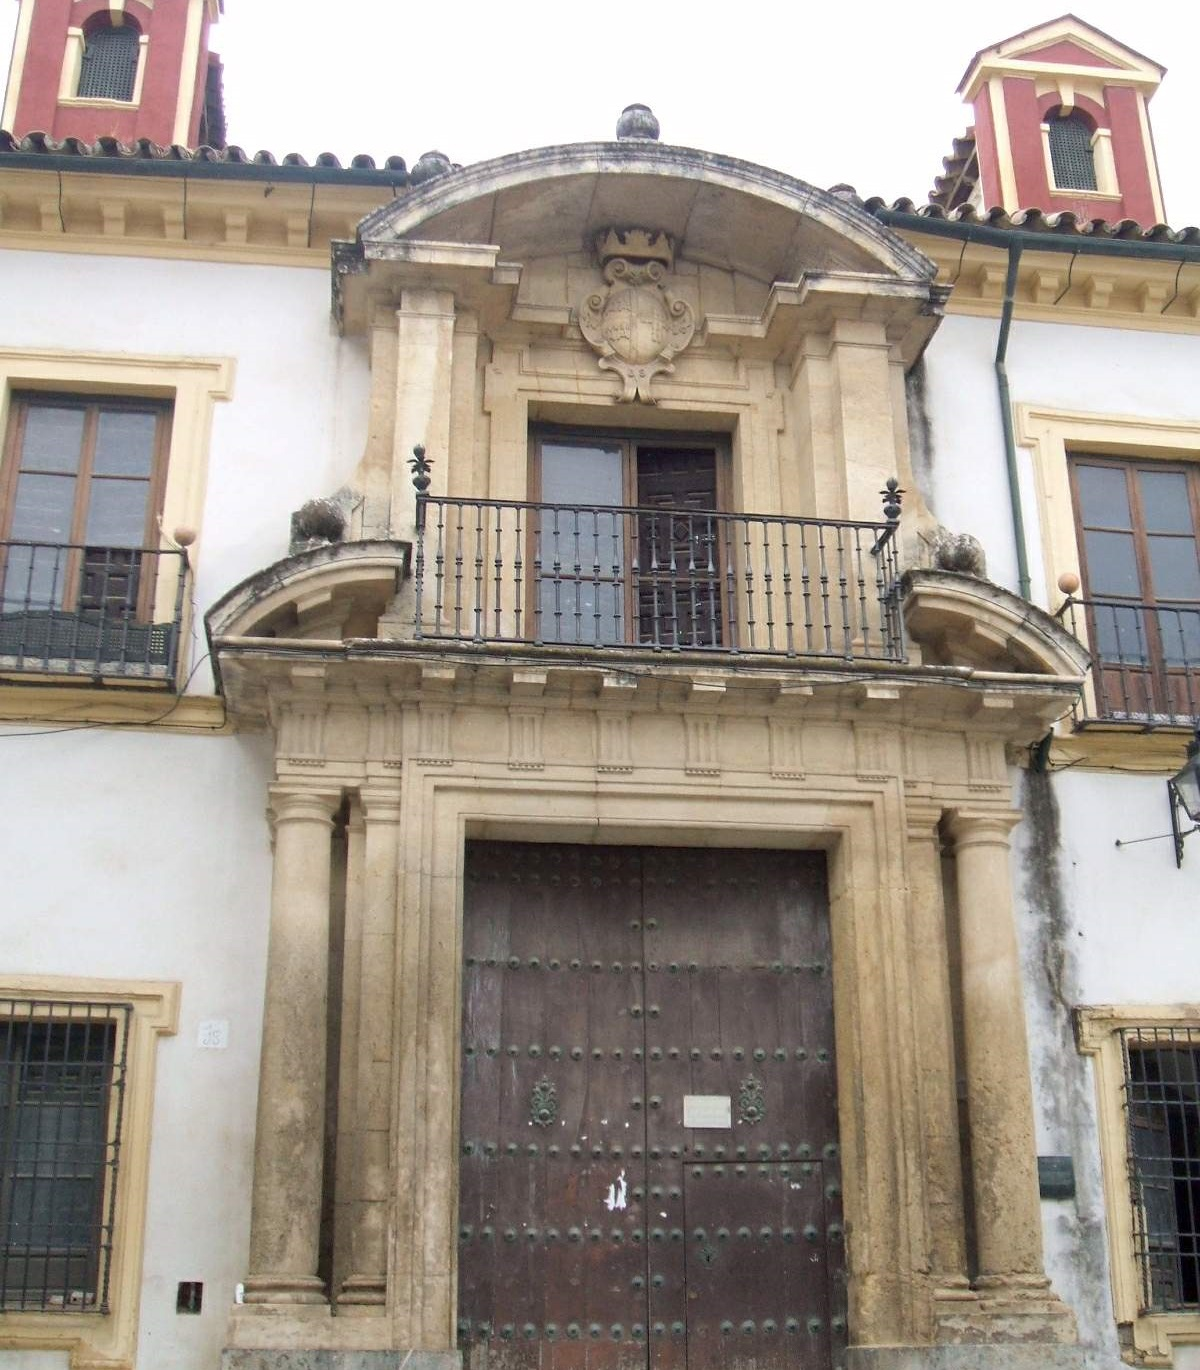fronton: (966, 10, 1173, 93)
fronton-partido: (197, 530, 1116, 721), (334, 140, 963, 329)
vano-adintelado: (390, 756, 904, 1370), (1, 351, 237, 695), (1, 975, 190, 1360), (508, 367, 753, 661), (1014, 397, 1200, 737)
